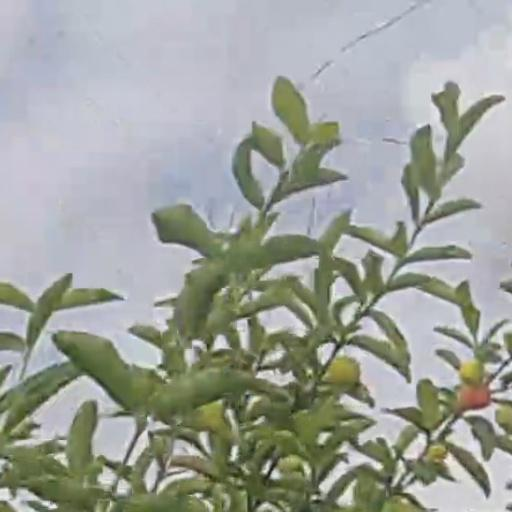acerola_verde: (328, 355, 359, 388)
acerola_vermelha: (457, 388, 489, 410)
